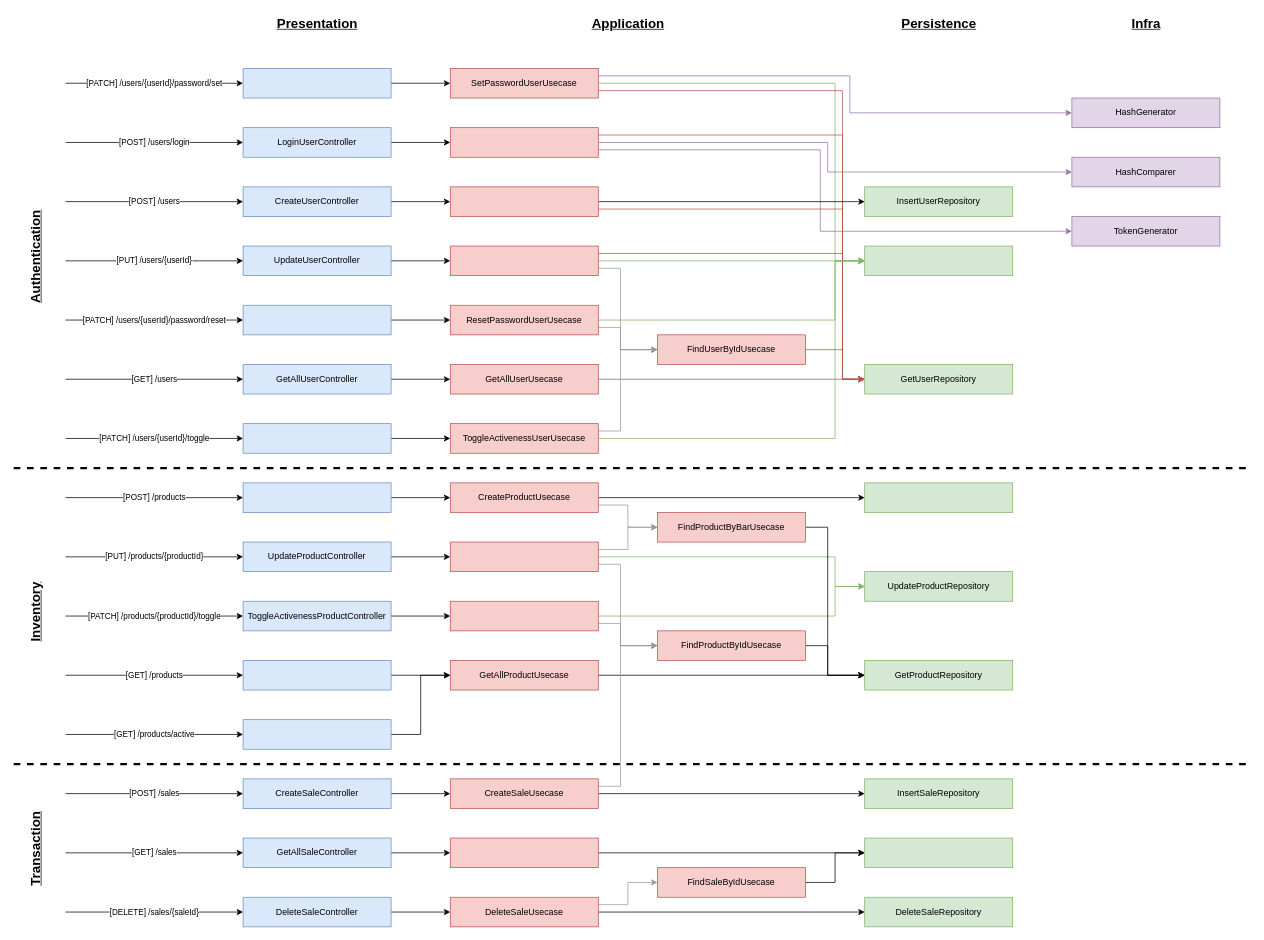
Some shapes in this 1264 by 940 pixel diagram are drawn without their labels. Here are the shapes that lost their labels. From the top down, the centre of each, then its label:
At (x=316, y=83): "SetPasswordUserController".
At (x=524, y=142): "LoginUserUsecase".
At (x=524, y=201): "CreateUserUsecase".
At (x=524, y=260): "UpdateUserUsecase".
At (x=938, y=260): "UpdateUserRepository".
At (x=316, y=320): "ResetPasswordUserController".
At (x=316, y=438): "ToggleActivenessUserController".
At (x=316, y=497): "CreateProductController".
At (x=938, y=497): "InsertProductRepository".
At (x=524, y=556): "UpdateProductUsecase".
At (x=524, y=616): "ToggleActivenessProductUsecase".
At (x=316, y=675): "GetAllProductController".
At (x=316, y=734): "GetAllActiveProductController".
At (x=524, y=852): "GetAllSaleUsecase".
At (x=938, y=852): "GetSaleRepository".
